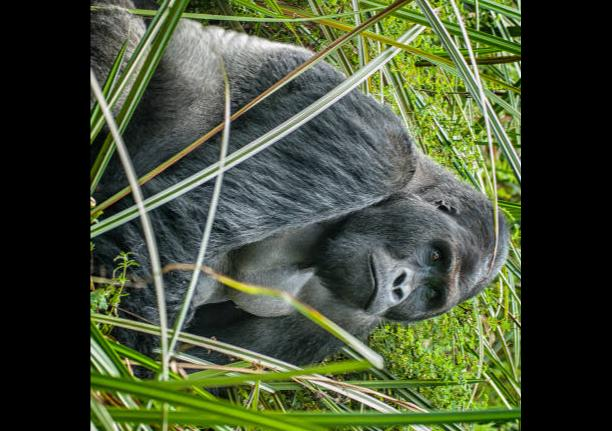gorille_Autres: (91, 0, 502, 404)
